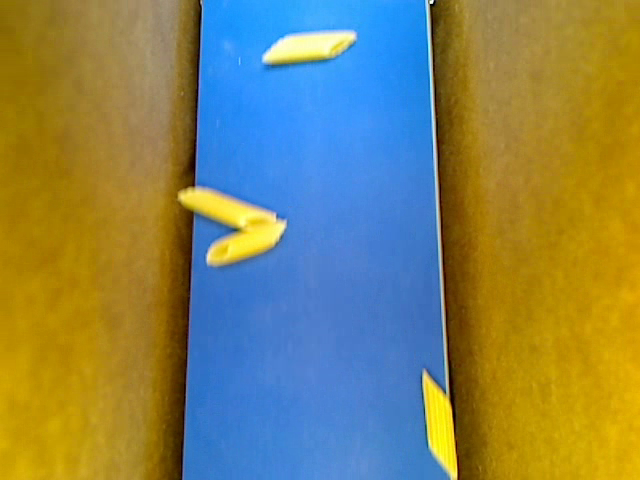penne: (177, 182, 276, 230), (422, 369, 458, 479), (205, 219, 286, 265), (263, 31, 356, 64)
